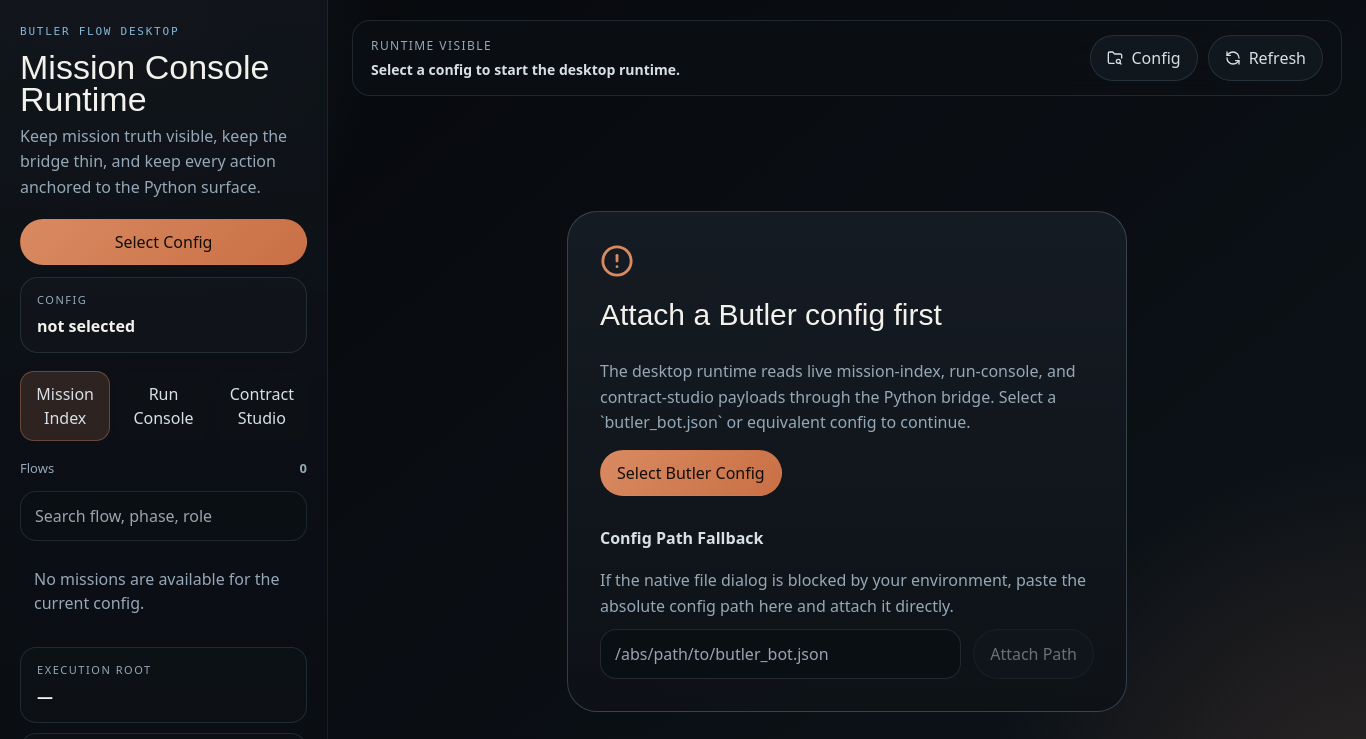
Test: Desktop App › attaches a config path manually and loads workspace flows
The image size is (1366, 739).
Type "/tmp/butler/butler_bot.json" into the field labelled "Config Path Fallback".
click(781, 654); type("/tmp/butler/butler_bot.json")  # box [600,629,961,679]
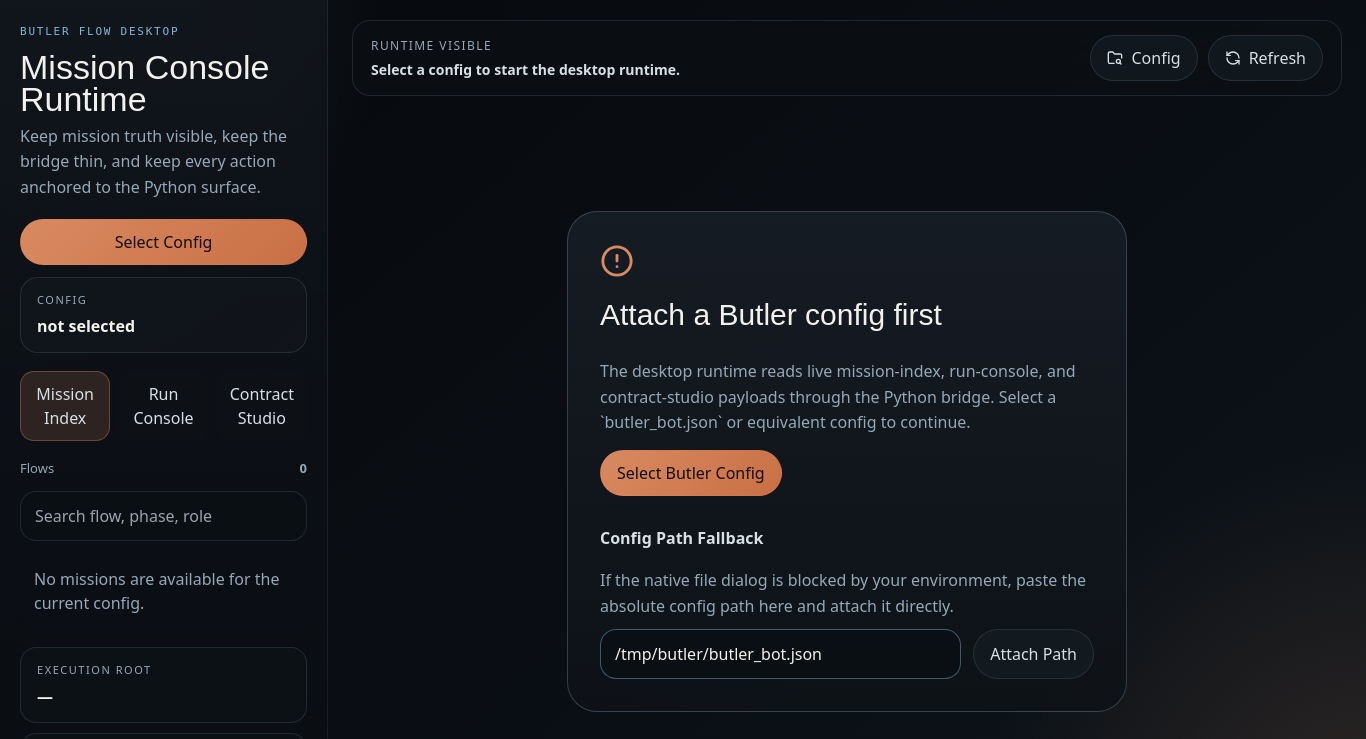
Click the button "Attach Path".
click(1034, 654)  # box [973,629,1094,679]
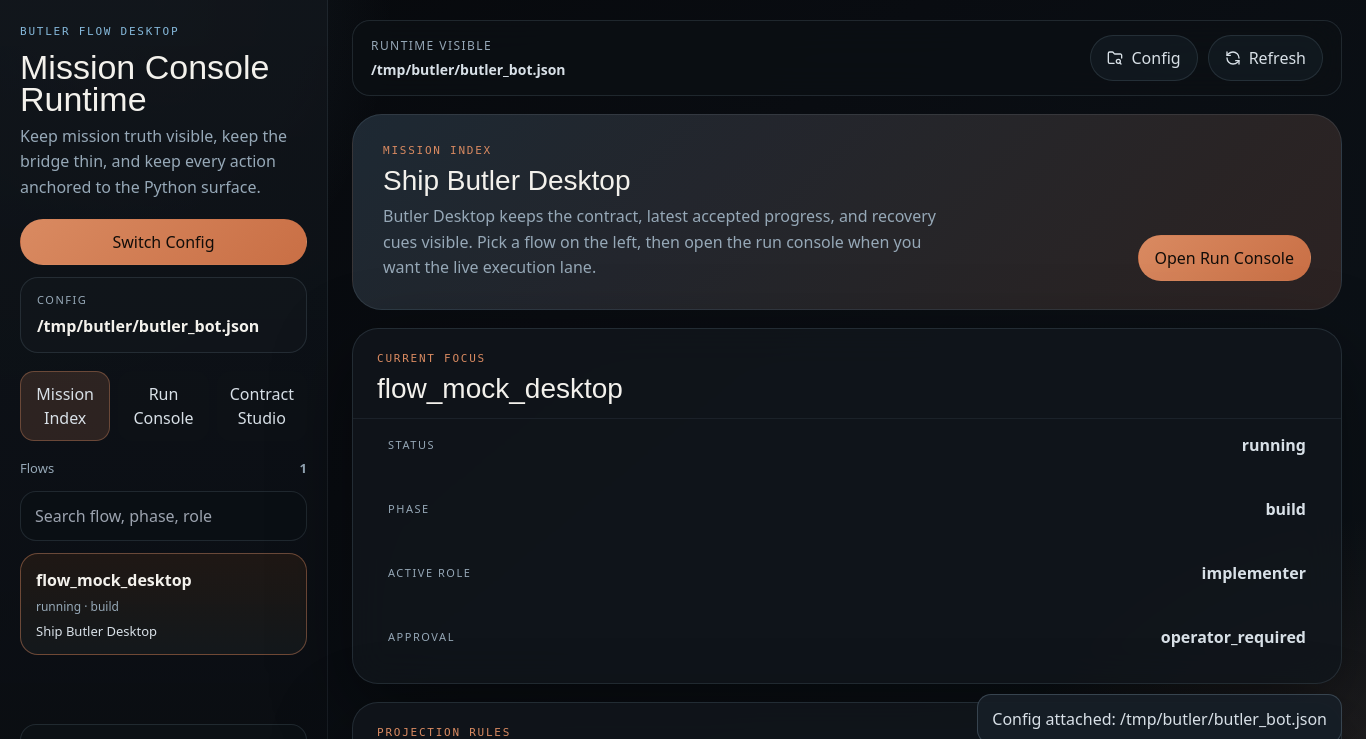
Expected: the button "flow_mock_desktop running · build Ship Butler Desktop" is shown, [20,552,307,655]
